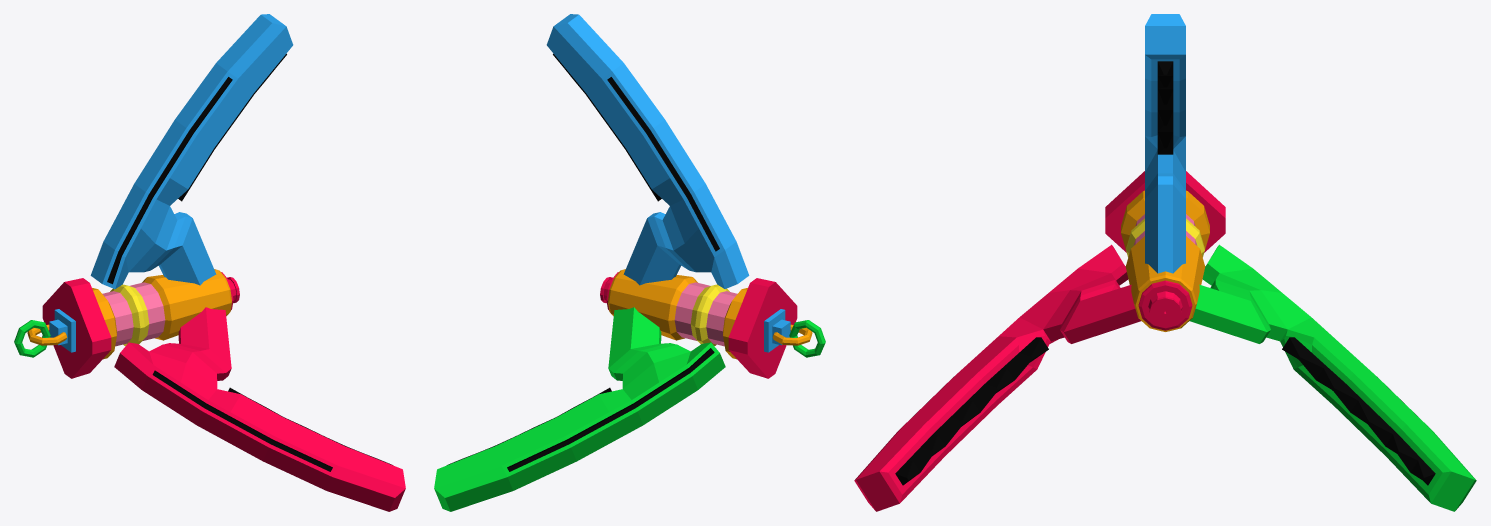
File: GrappleModel.fbx
3 views of the same model, side by side, from view 1: azimuth 30°, elevation 25°; view 2: azimuth 150°, elevation 25°; view 3: azimuth 270°, elevation 25° (orthographic). The views are drawn at different scales.
Parts seen in each view (by area): view 1: Cube.001; view 2: Cube.001; view 3: Cube.001.
Part boxes in pixels (<box>): Cube.001: <box>14,14,405,511</box>; Cube.001: <box>434,14,825,511</box>; Cube.001: <box>854,14,1476,511</box>.
Bounding box in the file's own units: 518 × 737 × 847.
